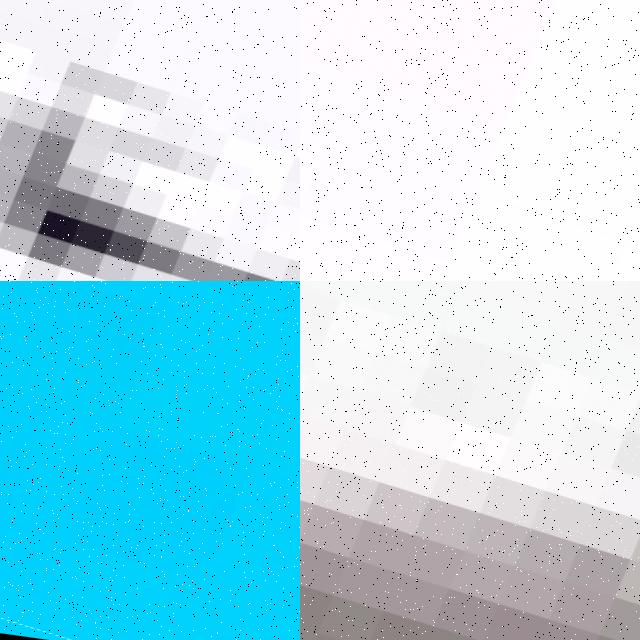0: (0, 0, 300, 281)
drone: (300, 281, 640, 640), (0, 281, 300, 640), (300, 0, 640, 281)
